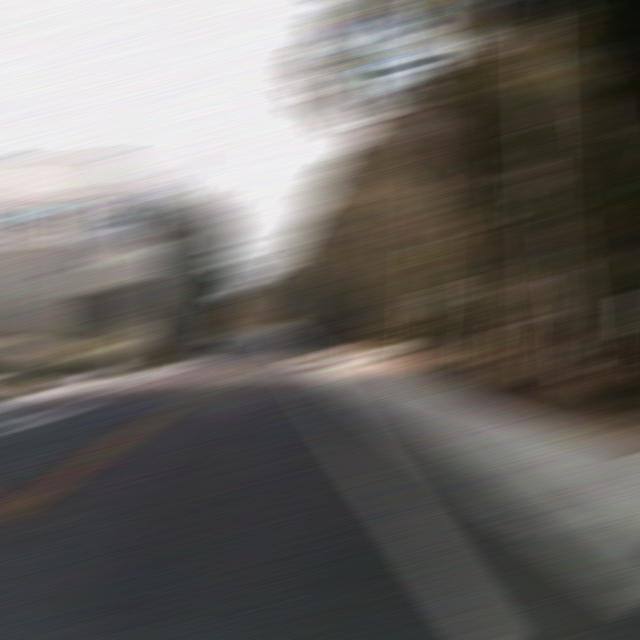speedLimit35: (421, 285, 458, 308)
